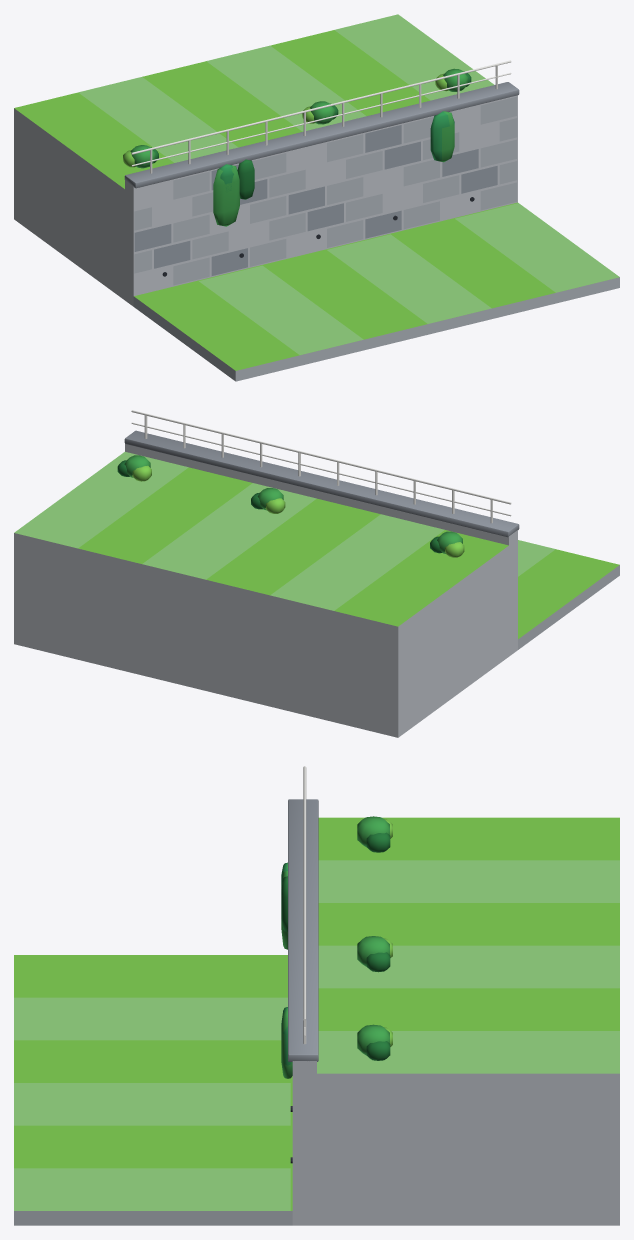
File: plato_borda.glb
3 views of the same model, one above another, from view 1: azimuth 30°, elevation 25°; view 2: azimuth 150°, elevation 25°; view 3: azimuth 270°, elevation 25° (orthographic). The views are drawn at different scales.
Visible parts, largest first — view 1: plato_borda; view 2: plato_borda; view 3: plato_borda.
Part boxes in pixels (<box>): plato_borda: <box>14,14,619,381</box>; plato_borda: <box>14,410,619,737</box>; plato_borda: <box>14,766,619,1225</box>.
Bounding box in the file's own units: 15 × 5.6 × 15.
Materials: 1 (1 with a texture image).
